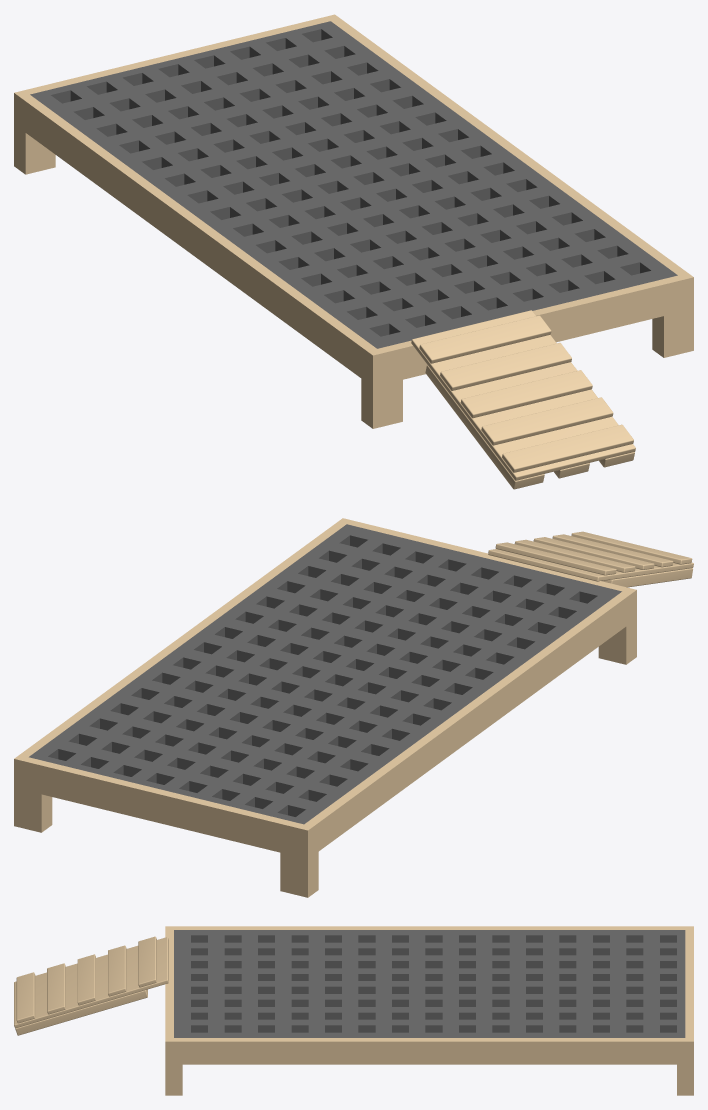
Rendered from HustleDeck.gltf.
3 views of the same model, one above another, from view 1: azimuth 30°, elevation 25°; view 2: azimuth 150°, elevation 25°; view 3: azimuth 270°, elevation 25° (orthographic). The views are drawn at different scales.
Visible parts, largest first — view 1: Rug, Deck, Body1, Body5, Body4, Body3, Body6, Body7, Front Left Leg, Front Right Leg, Back Left Leg, Body9; view 2: Rug, Deck, Body1, Back Left Leg, Back Right Leg, Body6, Front Left Leg, Body4, Body3, Body5, Body7, Body9; view 3: Rug, Deck, Body1, Body2, Body7, Body4, Body6, Body3, Body5, Front Right Leg, Back Right Leg.
Part boxes in pixels (x1,y1,x2,y2): Rug: (30, 21, 677, 348); Deck: (14, 14, 693, 386); Body1: (411, 310, 635, 480); Body5: (460, 370, 592, 418); Body4: (481, 397, 613, 445); Body3: (440, 343, 571, 390); Body6: (419, 315, 551, 363); Body7: (502, 424, 633, 472); Front Left Leg: (361, 379, 402, 428); Front Right Leg: (652, 309, 693, 357); Back Left Leg: (14, 124, 55, 174); Body9: (425, 365, 544, 489); Rug: (29, 524, 621, 824); Deck: (14, 518, 636, 859); Body1: (488, 549, 693, 581); Back Left Leg: (280, 852, 318, 897); Back Right Leg: (14, 787, 52, 832); Body6: (495, 542, 616, 575); Front Left Leg: (598, 619, 636, 664); Body4: (552, 534, 673, 567); Body3: (514, 539, 635, 572); Body5: (533, 537, 654, 569); Body7: (571, 531, 692, 564); Body9: (601, 568, 692, 587); Rug: (174, 930, 685, 1037); Deck: (165, 926, 693, 1064); Body1: (14, 937, 168, 1028); Body2: (15, 989, 147, 1035); Body7: (16, 972, 35, 1023); Body4: (47, 963, 65, 1014); Body6: (138, 936, 156, 987); Body3: (108, 945, 126, 996); Body5: (77, 954, 95, 1005); Front Right Leg: (165, 1064, 182, 1095); Back Right Leg: (677, 1064, 693, 1095).
Size of the model in its own units: 163 by 38.52 by 405.
